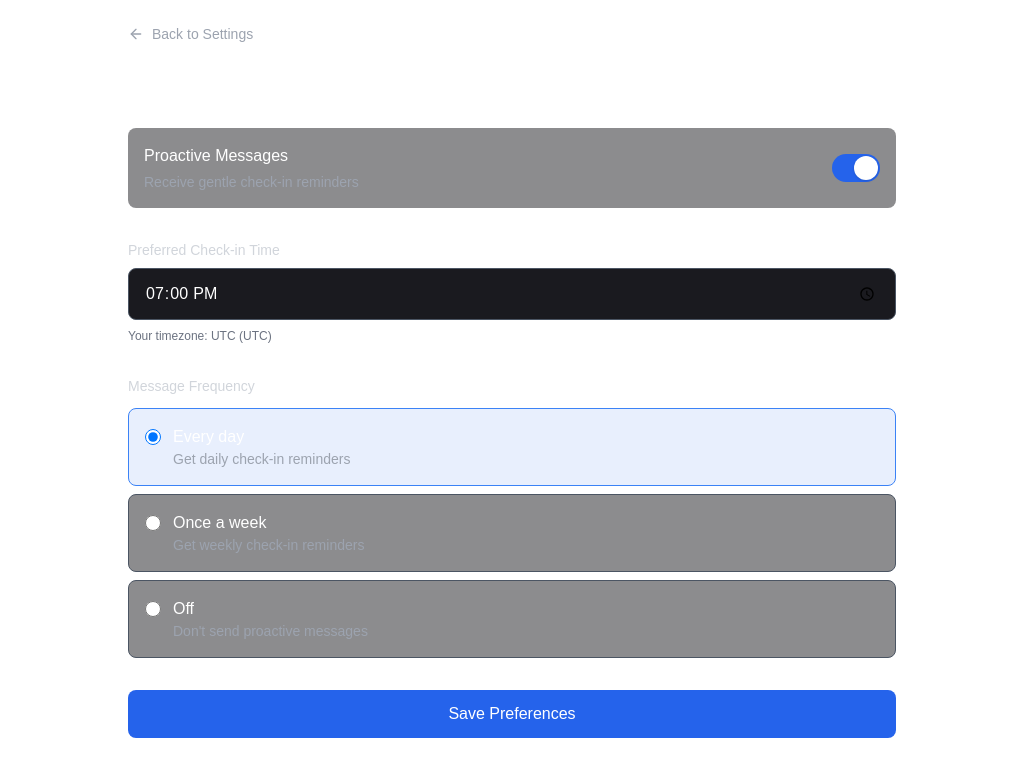
Scenario: PreferencesPage › AC5: Error Handling › shows error message when update fails
The width and height of the screenshot is (1024, 768).
Change time
Replace the text in the time field labelled "Preferred Check-in Time" with "08:00". click: (512, 294)
box: [128,268,896,320]
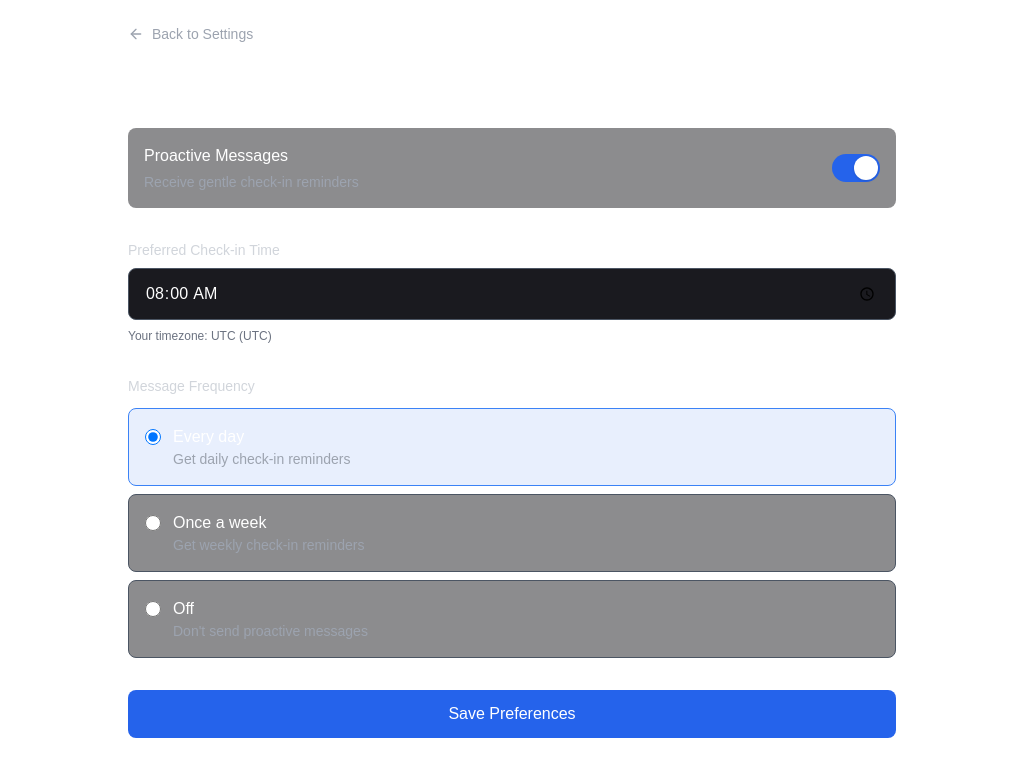
Submit form
Click the button "Save Preferences". click: (512, 714)
box: [128,690,896,738]
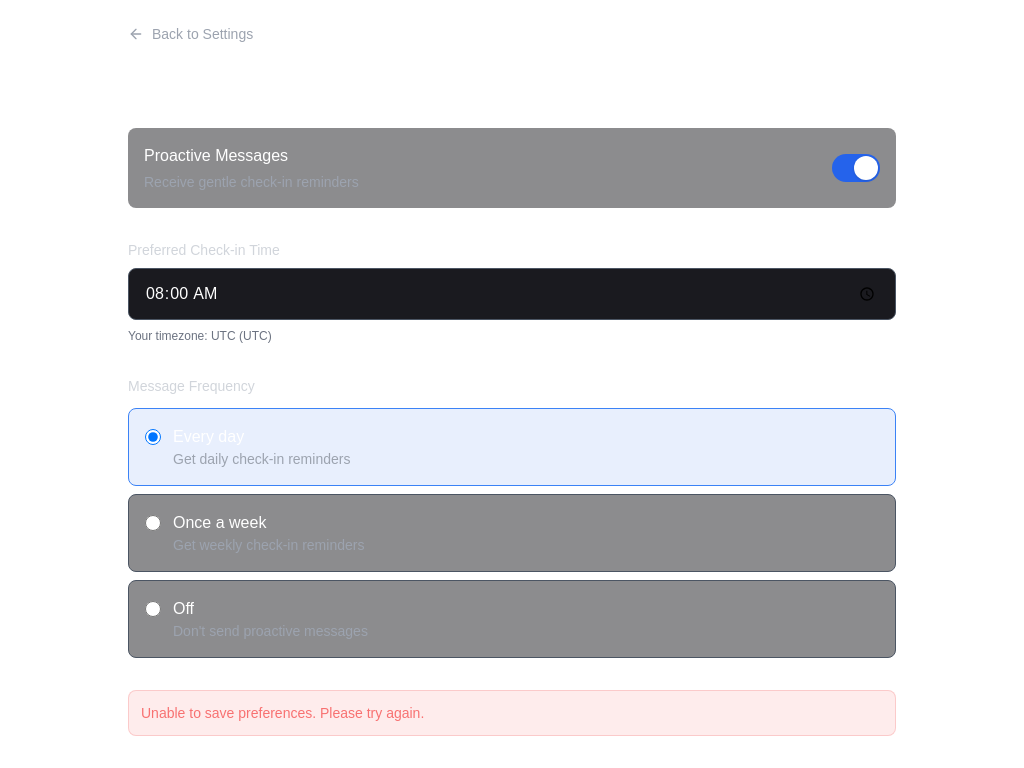
expect the text "Unable to save preferences. Please try again." is shown: met, box [141,705,424,721]
